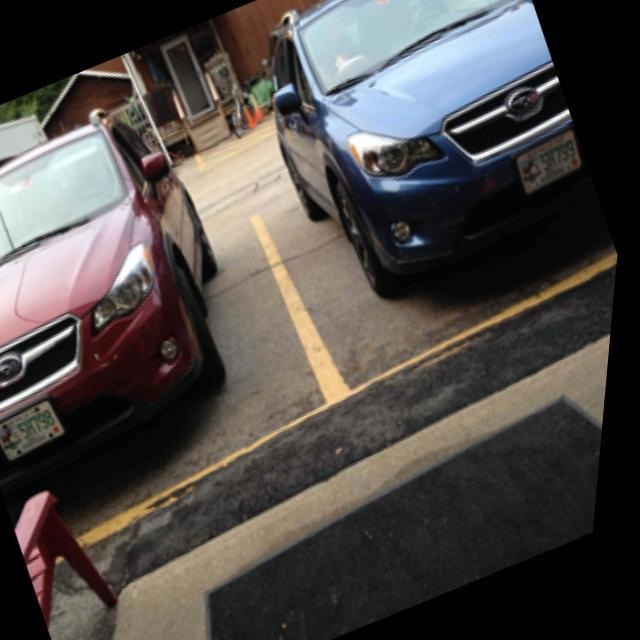license_plate: (0, 402, 78, 464), (514, 133, 586, 191)
